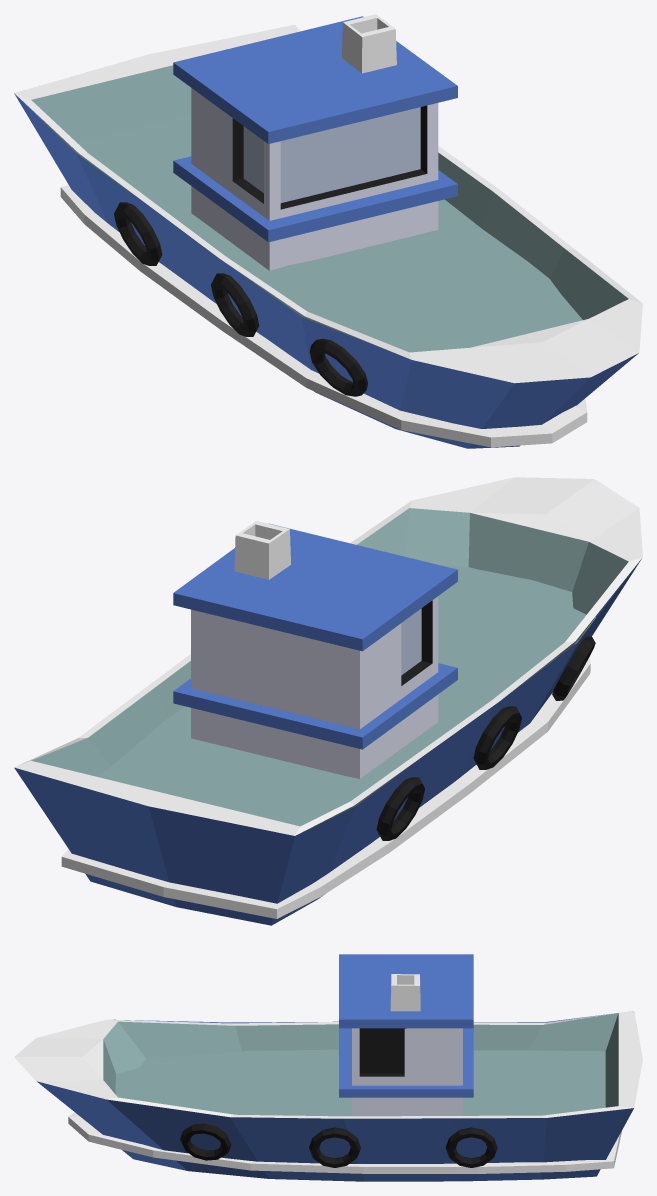
The model's file is Boat.fbx.
The picture shows the model from 3 angles, top to bottom: view 1: azimuth 30°, elevation 25°; view 2: azimuth 150°, elevation 25°; view 3: azimuth 270°, elevation 25°; orthographic projection. The views are drawn at different scales.
Visible parts, largest first — view 1: Floor of boat, CabinTrim, Hull, BoatRim, InteriorBoat, Cabin Box, Hull.001, FrontWindow, Spinner, Circle, FrontRightTire, BackRightTire (+2 smaller); view 2: Hull, Floor of boat, Cabin Box, CabinTrim, InteriorBoat, BoatRim, Hull.001, Spinner, BackRightTire, MidRightTire, Circle, Right Cabin window (+1 smaller); view 3: Hull, Floor of boat, InteriorBoat, CabinTrim, BoatRim, Cabin Box, Hull.001, Circle, Spinner, backLefttire, leftMidTire, FrontLeftTire.
Part boxes in pixels (bbox=[...]): Floor of boat: bbox=[77, 115, 582, 352]; CabinTrim: bbox=[173, 16, 457, 242]; Hull: bbox=[14, 93, 638, 448]; BoatRim: bbox=[14, 24, 642, 383]; InteriorBoat: bbox=[31, 65, 628, 355]; Cabin Box: bbox=[191, 88, 438, 270]; Hull.001: bbox=[60, 185, 587, 447]; FrontWindow: bbox=[280, 107, 420, 202]; Spinner: bbox=[341, 14, 396, 73]; Circle: bbox=[232, 105, 427, 209]; FrontRightTire: bbox=[309, 338, 367, 396]; BackRightTire: bbox=[114, 202, 162, 265]; Hull: bbox=[14, 559, 641, 925]; Floor of boat: bbox=[97, 564, 595, 826]; Cabin Box: bbox=[191, 596, 438, 778]; CabinTrim: bbox=[173, 523, 457, 749]; InteriorBoat: bbox=[31, 508, 628, 833]; BoatRim: bbox=[14, 477, 642, 835]; Hull.001: bbox=[61, 656, 590, 918]; Spinner: bbox=[234, 521, 290, 579]; BackRightTire: bbox=[376, 777, 424, 840]; MidRightTire: bbox=[473, 706, 521, 769]; Circle: bbox=[296, 600, 571, 835]; Right Cabin window: bbox=[401, 608, 421, 675]; Hull: bbox=[37, 1011, 633, 1181]; Floor of boat: bbox=[115, 1049, 605, 1116]; InteriorBoat: bbox=[103, 1013, 618, 1107]; CabinTrim: bbox=[339, 954, 473, 1097]; BoatRim: bbox=[14, 1011, 642, 1118]; Cabin Box: bbox=[352, 1028, 462, 1116]; Hull.001: bbox=[68, 1112, 621, 1173]; Circle: bbox=[343, 1028, 458, 1157]; Spinner: bbox=[390, 974, 420, 1011]; backLefttire: bbox=[445, 1127, 497, 1167]; leftMidTire: bbox=[309, 1127, 360, 1167]; FrontLeftTire: bbox=[180, 1123, 231, 1160].
Size of the model in its own units: 226 by 191 by 593.
